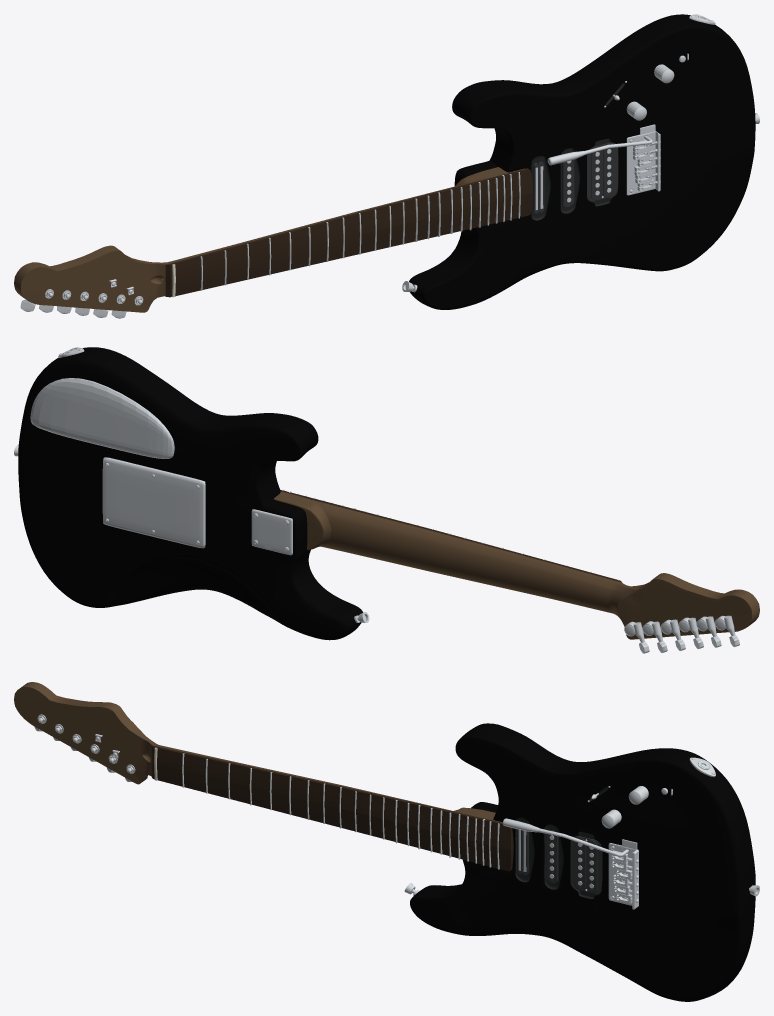
The model's file is rgb24.glb.
3 renders of one model, top to bottom at view 1: azimuth 30°, elevation 25°; view 2: azimuth 150°, elevation 25°; view 3: azimuth 330°, elevation 25°, orthographic.
Parts seen in each view (by area): view 1: RGB24_BODY_White_Body, RGB24_Fretboard, RGB24_Neck, RGB24_Bridge, RGB24_Bridge_Pickup_White_Iron, RGB24_BODY_White_Pick_up; view 2: RGB24_BODY_White_Body, RGB24_Neck, RGB24_BODY_White_Iron, RGB24_BODY_White_Pick_up, RGB24_Fretboard; view 3: RGB24_BODY_White_Body, RGB24_Fretboard, RGB24_Neck, RGB24_Bridge, RGB24_Bridge_Pickup_White_Iron, RGB24_BODY_White_Pick_up, RGB24_Middle_Pickup_White_Iron.
Boxes of the visible parts, box(x1,y1,x2,y2) form: RGB24_BODY_White_Body: box(409, 14, 755, 309); RGB24_Fretboard: box(165, 168, 532, 297); RGB24_Neck: box(14, 167, 524, 312); RGB24_Bridge: box(109, 124, 660, 295); RGB24_Bridge_Pickup_White_Iron: box(587, 142, 617, 200); RGB24_BODY_White_Pick_up: box(402, 14, 759, 292); RGB24_BODY_White_Body: box(18, 347, 362, 640); RGB24_Neck: box(274, 491, 759, 639); RGB24_BODY_White_Iron: box(30, 378, 205, 548); RGB24_BODY_White_Pick_up: box(14, 347, 369, 622); RGB24_Fretboard: box(280, 490, 621, 582); RGB24_BODY_White_Body: box(410, 723, 755, 1001); RGB24_Fretboard: box(151, 745, 513, 871); RGB24_Neck: box(14, 682, 502, 822); RGB24_Bridge: box(95, 734, 638, 909); RGB24_Bridge_Pickup_White_Iron: box(571, 836, 602, 893); RGB24_BODY_White_Pick_up: box(404, 757, 759, 896); RGB24_Middle_Pickup_White_Iron: box(546, 830, 558, 883).
Size of the model in its own units: 11.93 by 3.83 by 1.06.
7 materials, 1 textured.
